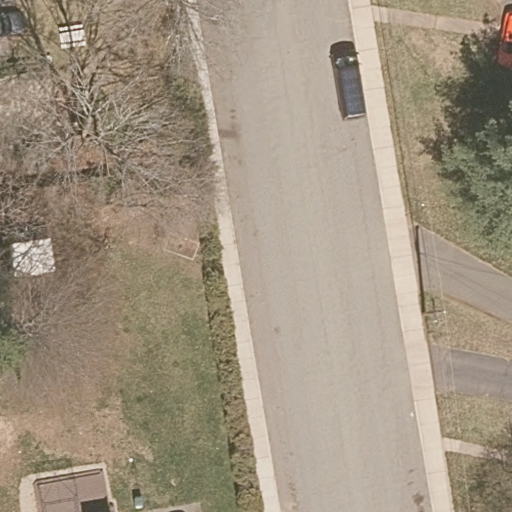DT: (420, 294, 446, 325)
